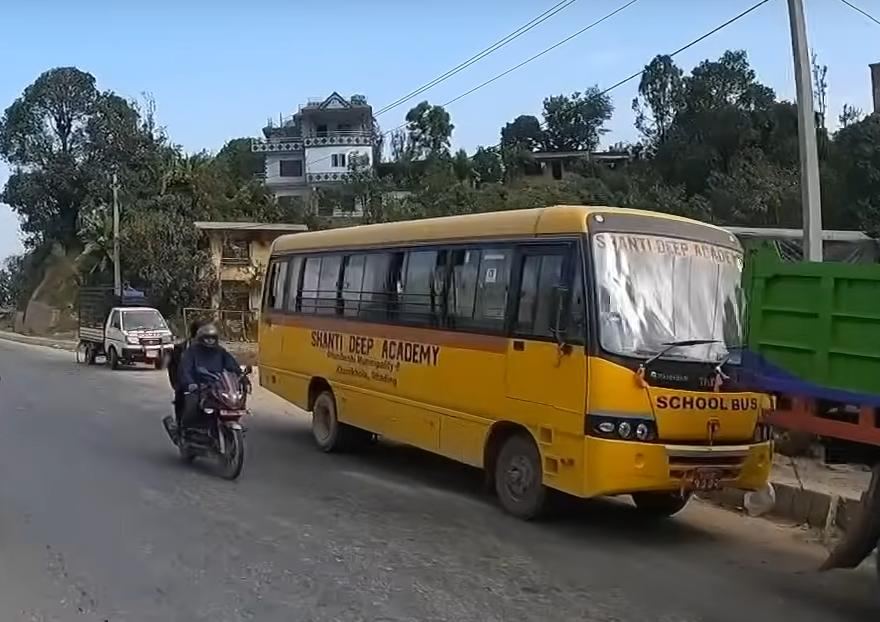bike: (161, 360, 254, 480)
school_bus: (258, 202, 777, 523)
